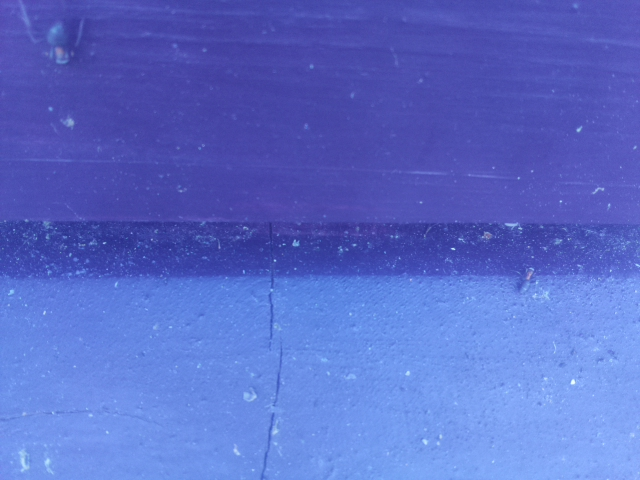ant: (44, 19, 72, 69)
